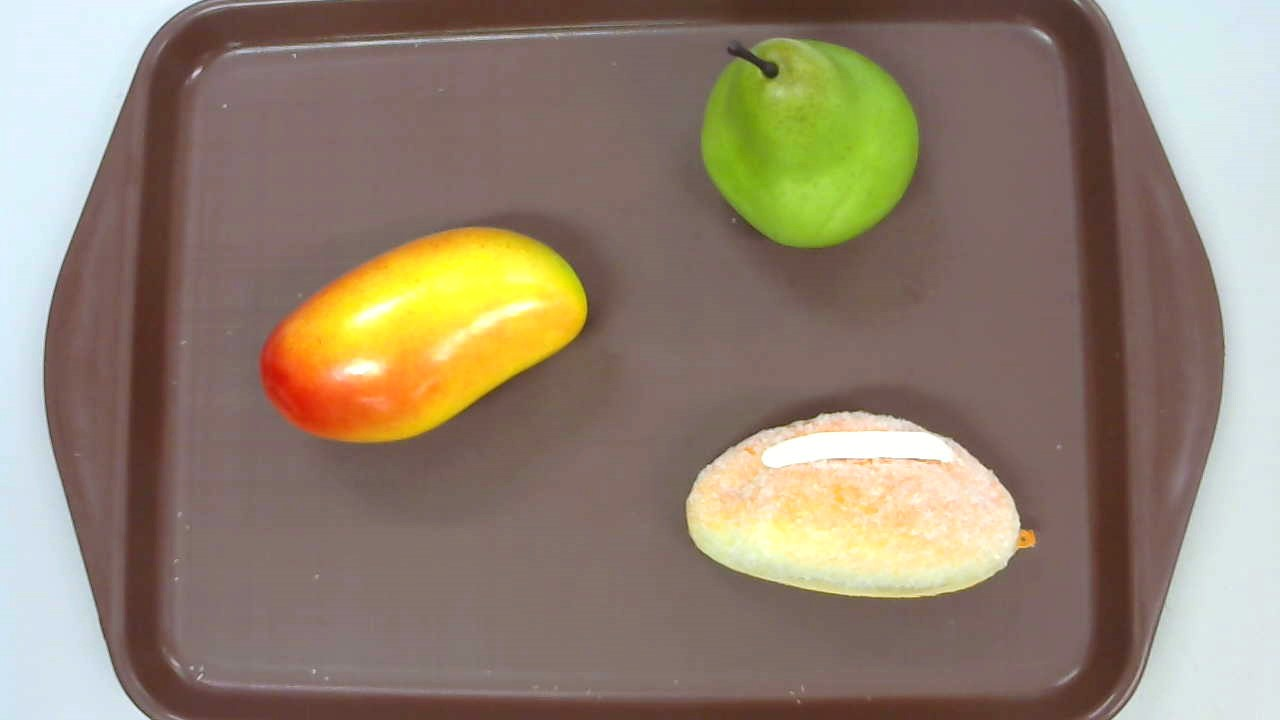coconut: (686, 410, 1035, 600)
green pear: (701, 37, 918, 246)
red mango: (260, 225, 589, 445)
